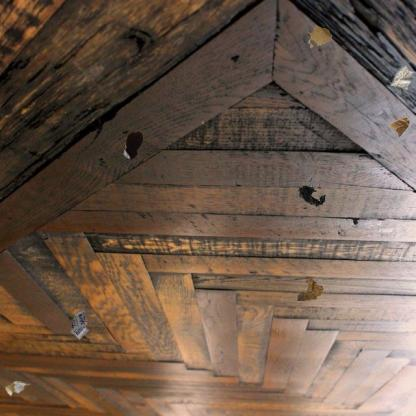dirty: (296, 184, 330, 209), (295, 276, 326, 303), (390, 64, 416, 90), (69, 309, 89, 340), (388, 115, 412, 139), (3, 378, 31, 398)
liquid: (122, 130, 144, 161), (307, 24, 332, 49)
